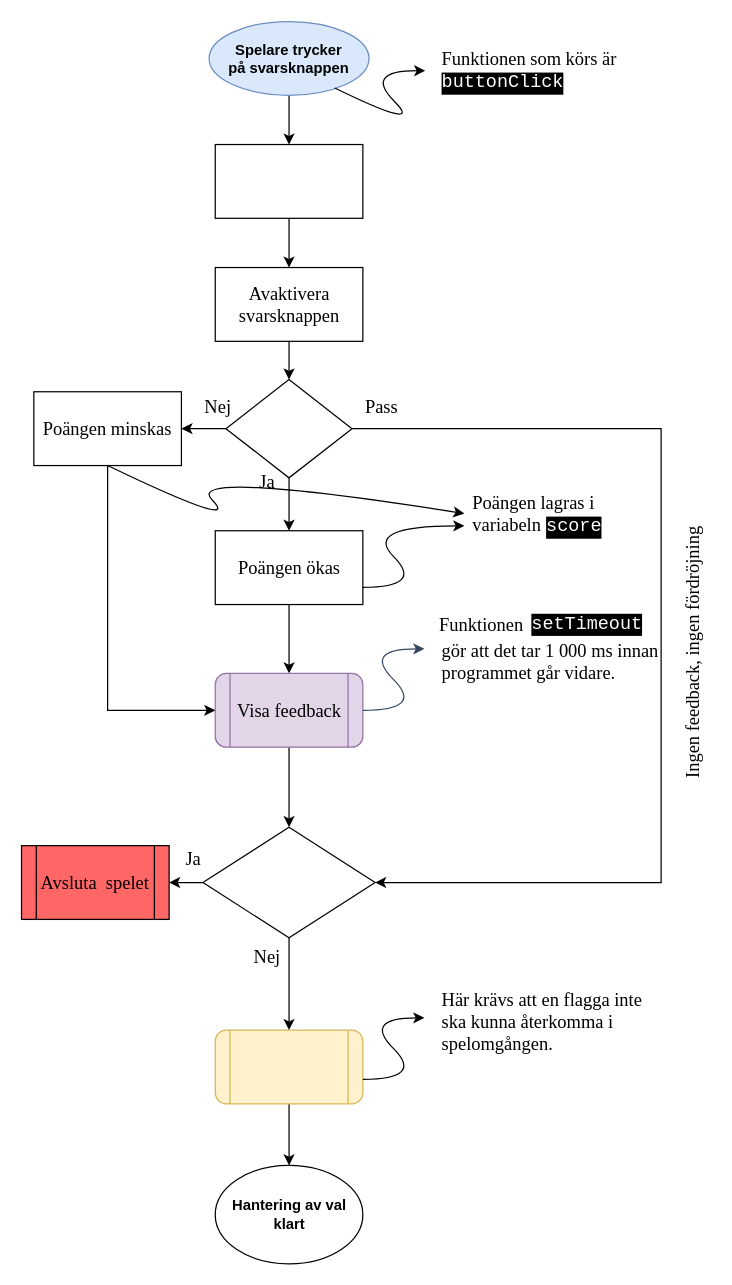
The diagram is 732 pixels wide and 1285 high, and some of its shapes have lost their labels. Each missing label, with the box of its shape:
Alternativ korrekt?: (225, 378, 352, 478)
Har max antal frågor nåtts?: (202, 826, 375, 938)
Ny flagga slumpas fram: (214, 1029, 363, 1104)
Radioknappen läses av: (214, 143, 363, 218)
